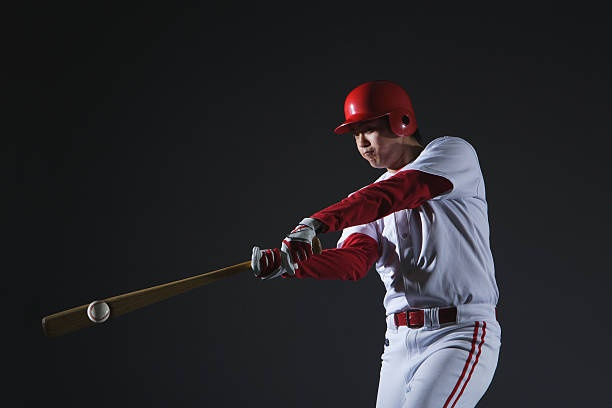bita: (40, 238, 324, 336)
